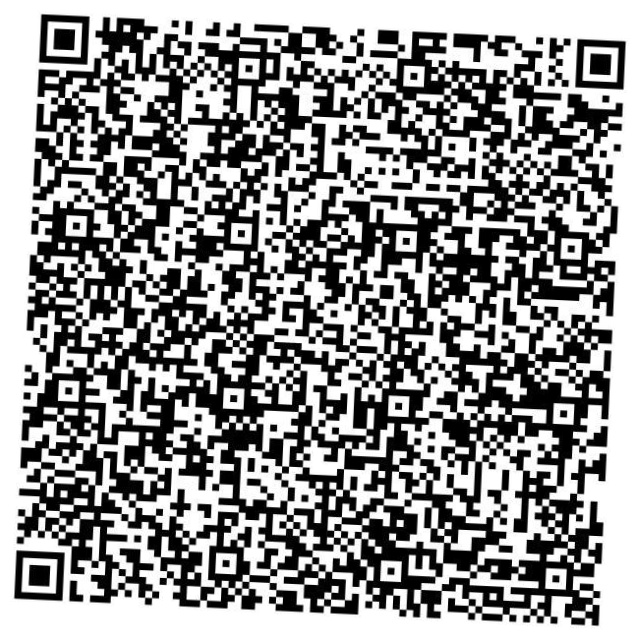qr-code: (4, 3, 637, 638)
